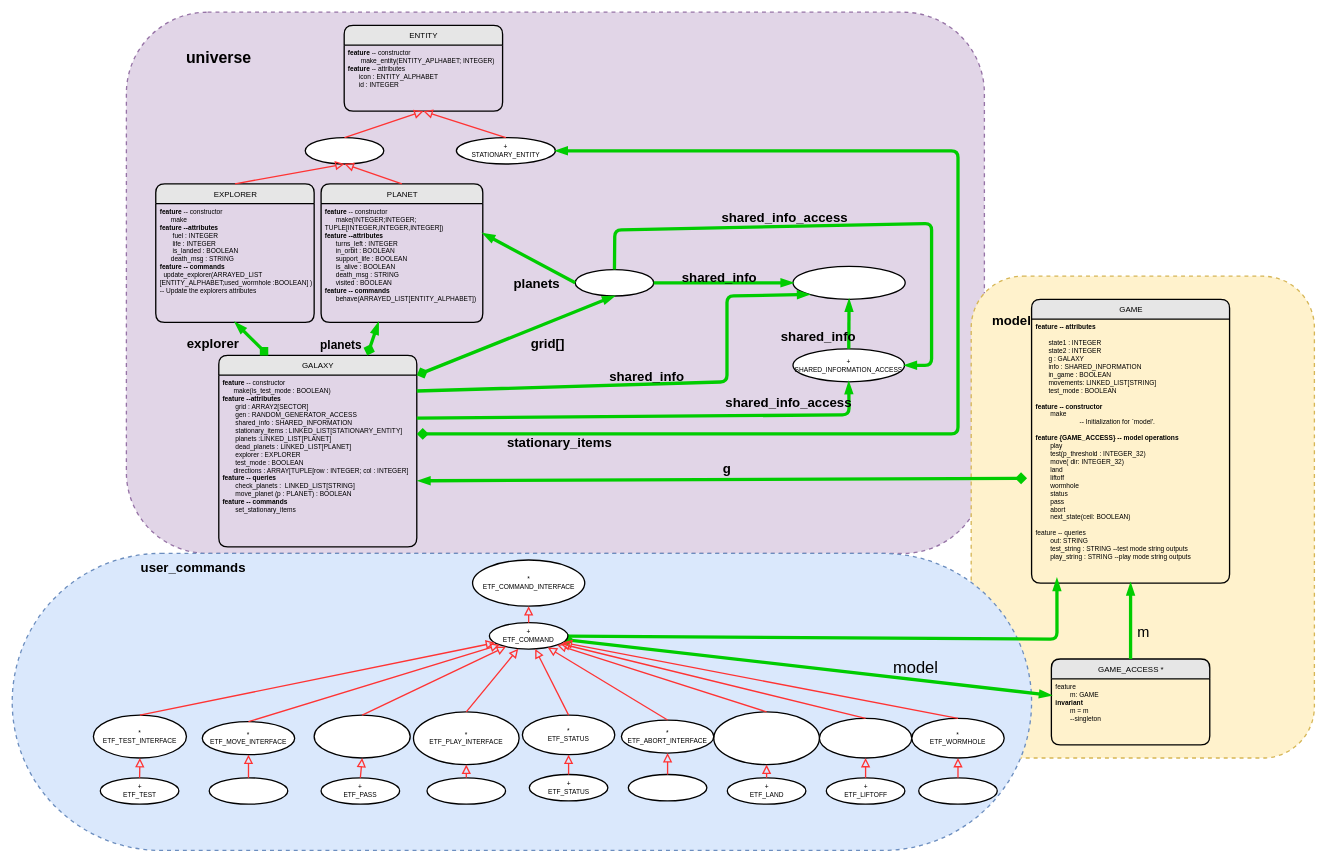
Image size: 1326x862. Some labels were removed from this diagram. Each missing label, with the centre of its shape:
"* ETF_LAND_INTERFACE" belongs at point 766,738.
"* ETF_LIFTOFF" belongs at point 865,737.
"* ETF_PASS_INTERFACE" belongs at point 362,736.
"+ ETF_ABORT" belongs at point 667,787.
"+ ETF_MOVE" belongs at point 248,791.
"+ ETF_PLAY" belongs at point 466,791.
"+ ETF_WORMHOLE" belongs at point 958,791.
"+ MOVABLE_ENTITY" belongs at point 344,150.
"+ SECTOR" belongs at point 614,282.
"+ SHARED_INFORMATION" belongs at point 849,282.
